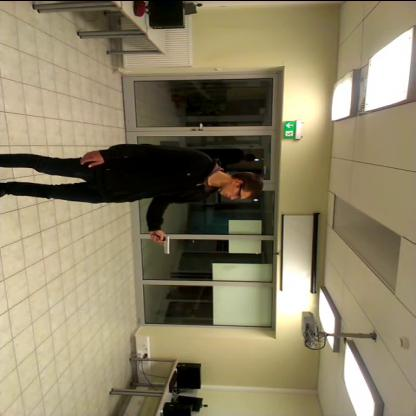Pistol: (141, 230, 178, 257)
